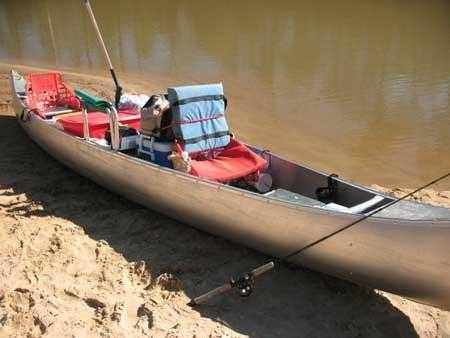kayak: (4, 83, 450, 303)
